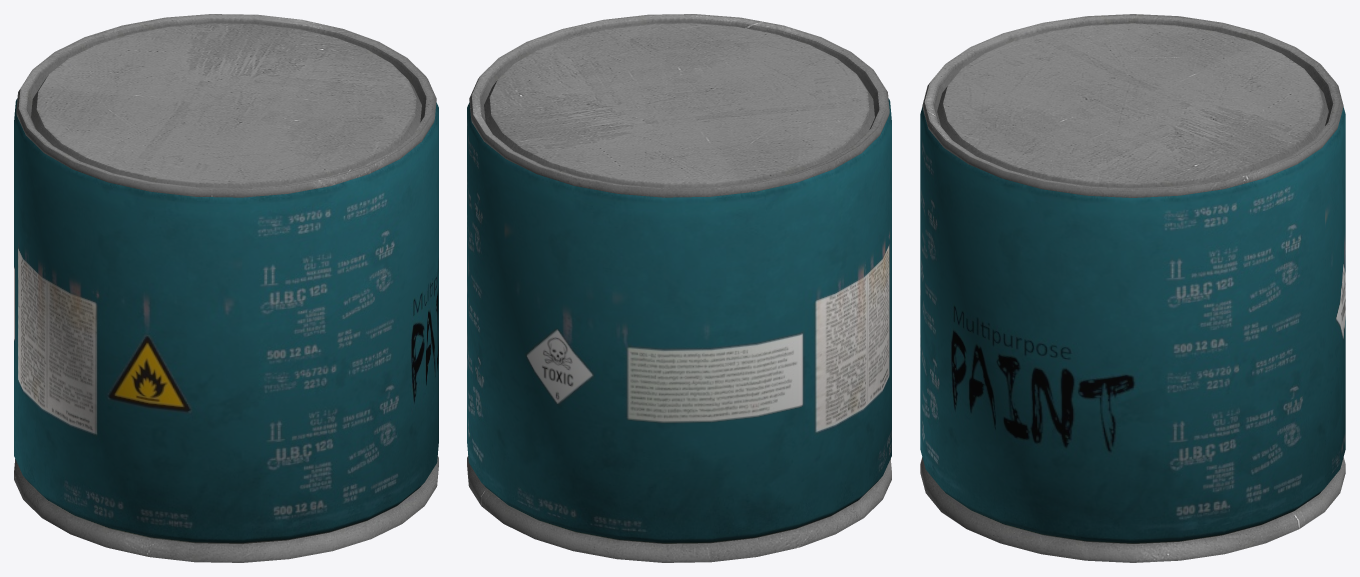
The model's file is can-small-01.fbx.
3 views of the same model, side by side, from view 1: azimuth 30°, elevation 25°; view 2: azimuth 150°, elevation 25°; view 3: azimuth 270°, elevation 25° (orthographic).
Visible parts, largest first — view 1: can_small_01_can_small_0; view 2: can_small_01_can_small_0; view 3: can_small_01_can_small_0.
Part boxes in pixels (x1,y1,x2,y2): can_small_01_can_small_0: (14,14,438,562); can_small_01_can_small_0: (467,14,891,562); can_small_01_can_small_0: (920,14,1345,562).
Bounding box in the file's own units: 4.12 × 3.97 × 4.12.
